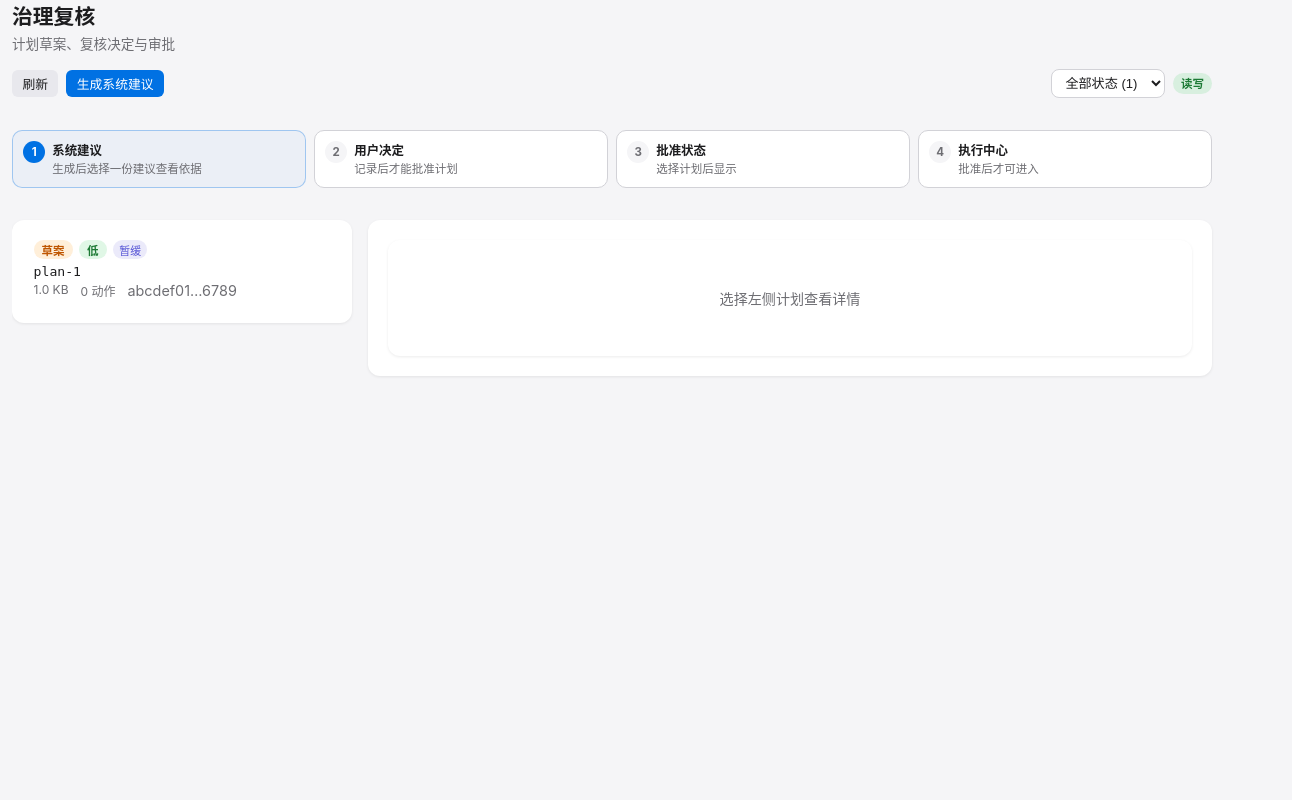
Test: keeps recorded history visible and cannot edit it through the compatibility page
Click the text "plan-1" at [57, 272], box left=34, top=264, right=81, bottom=279
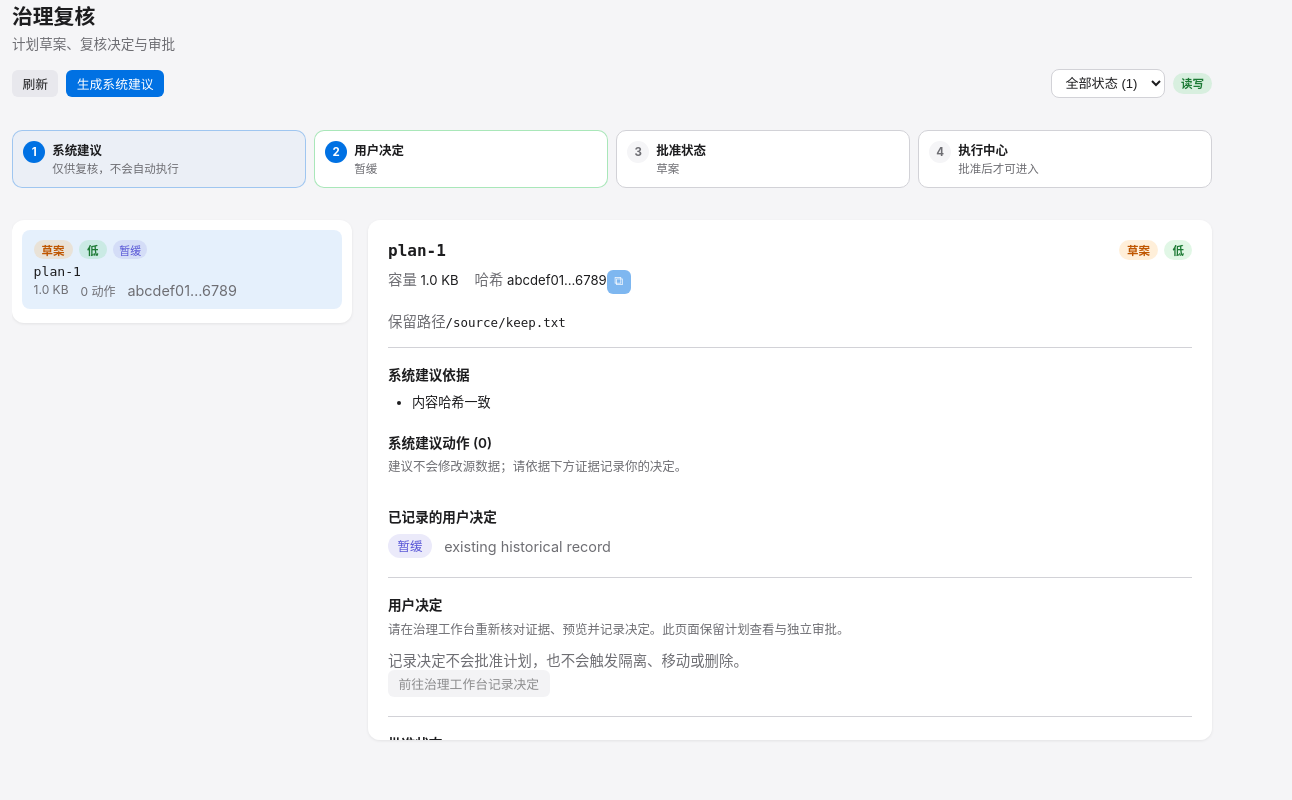
Check: the text "existing historical record" is shown, box left=444, top=538, right=611, bottom=554
Check: the button "前往治理工作台记录决定" is disabled, box left=388, top=670, right=550, bottom=697
